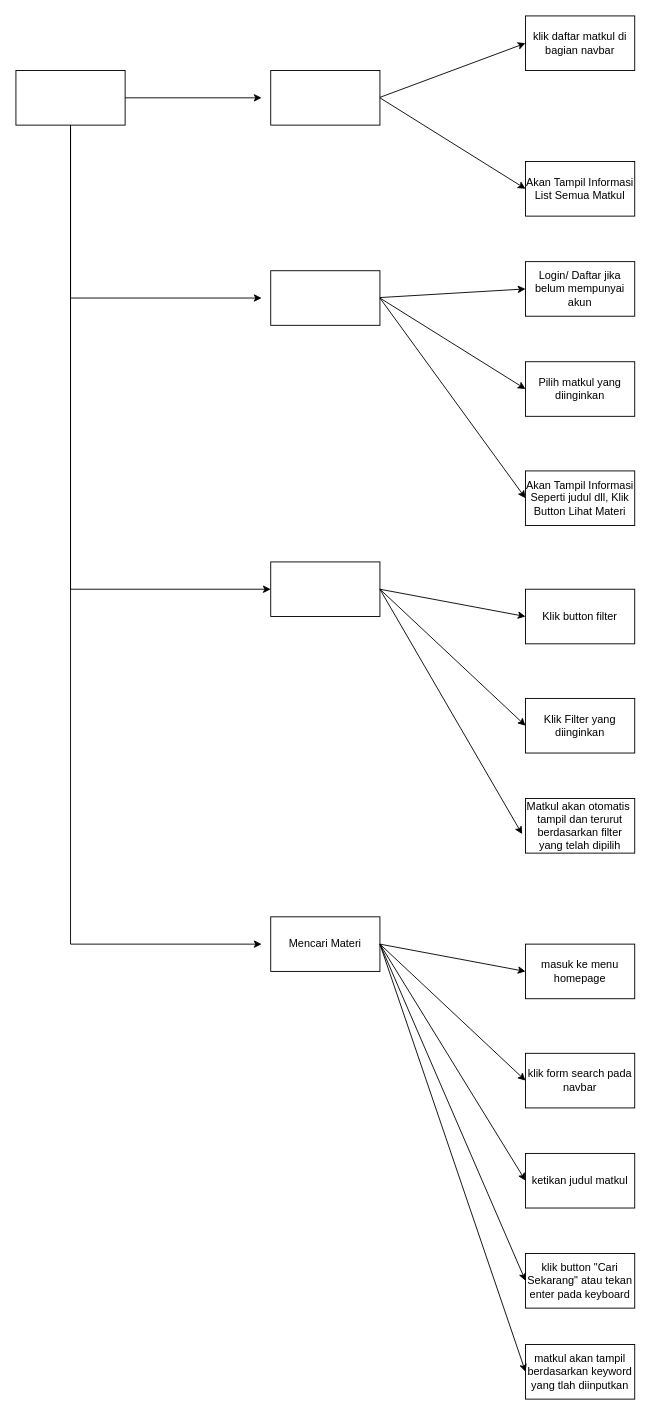
Some shapes in this 651 by 1415 pixel diagram are drawn without their labels. Here are the shapes that lost their labels. From the top down, the box of each, then its label:
(15, 70, 125, 125): GOALS
(270, 70, 380, 125): Melihat Daftar Matkul
(270, 270, 380, 325): Melihat Materi Didalam Matkul
(270, 561, 380, 617): Filter Matkul
